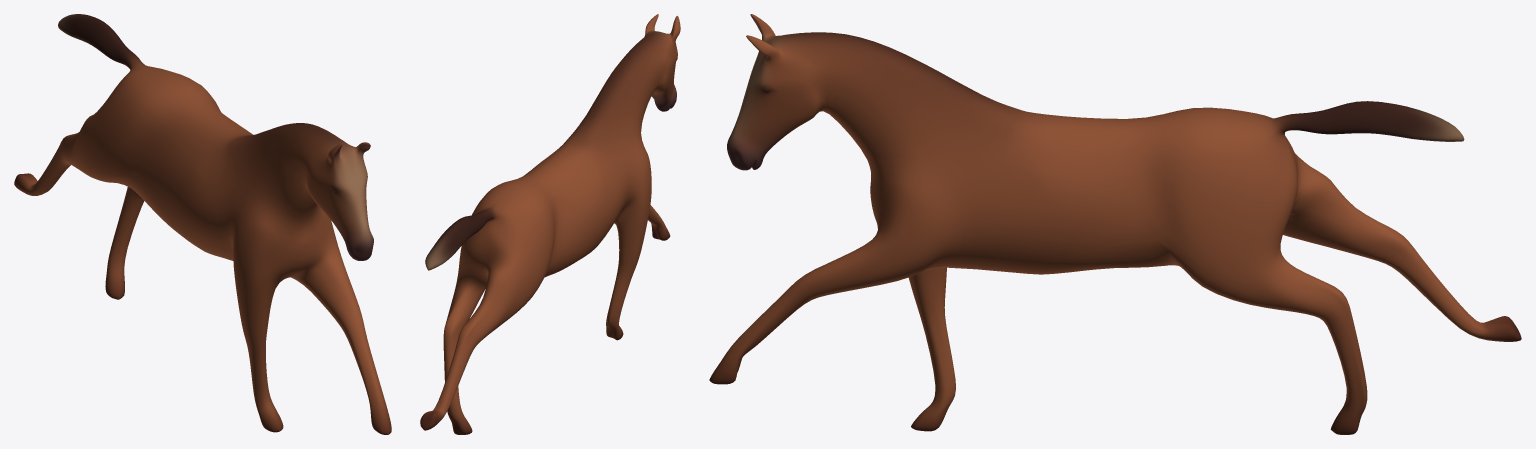
Rendered from horse.glb.
3 views of the same model, side by side, from view 1: azimuth 30°, elevation 25°; view 2: azimuth 150°, elevation 25°; view 3: azimuth 270°, elevation 25° (orthographic). The views are drawn at different scales.
Parts seen in each view (by area): view 1: Horse; view 2: Horse; view 3: Horse.
Boxes of the visible parts, x1,y1,x2,y2 form: Horse: (14, 14, 391, 434); Horse: (420, 14, 680, 434); Horse: (709, 14, 1521, 434).
Bounding box in the file's own units: 57.29 × 179 × 319.
